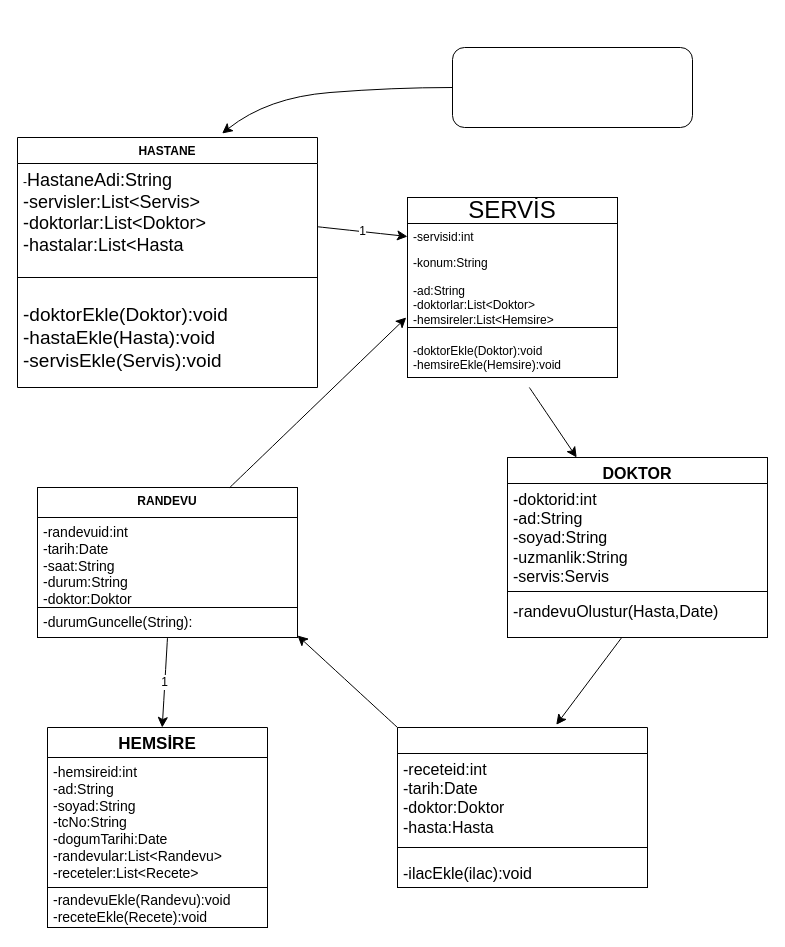
Some shapes in this 785 by 947 pixel diagram are drawn without their labels. The shapes that lost their labels are listed below. From the top down, each one's box as (x1, y1, x2, y2) in pixels, then its label:
(452, 46, 692, 128): HASTANE YÖNETİM SİSTEMİ
(396, 726, 648, 888): RECETE
